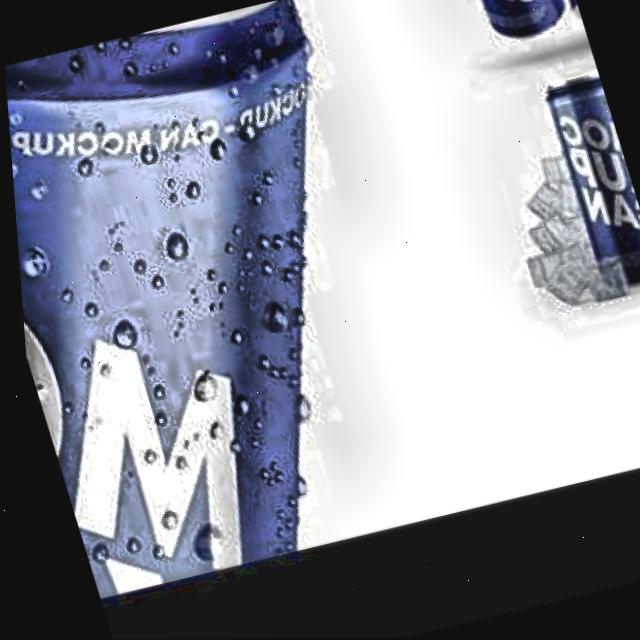metal: (0, 0, 471, 608), (525, 60, 640, 303), (439, 0, 578, 50)
